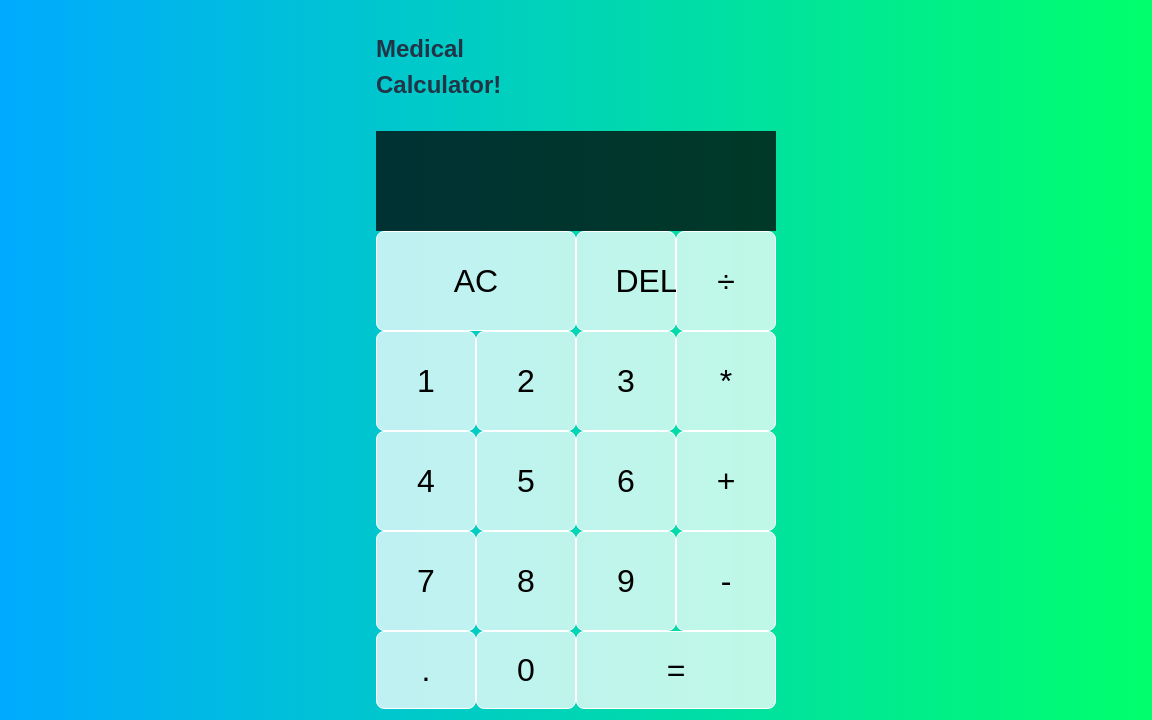
Calculator App › performs addition correctly
The width and height of the screenshot is (1152, 720).
Click the button "2" at (526, 381), box [476,331,576,431]
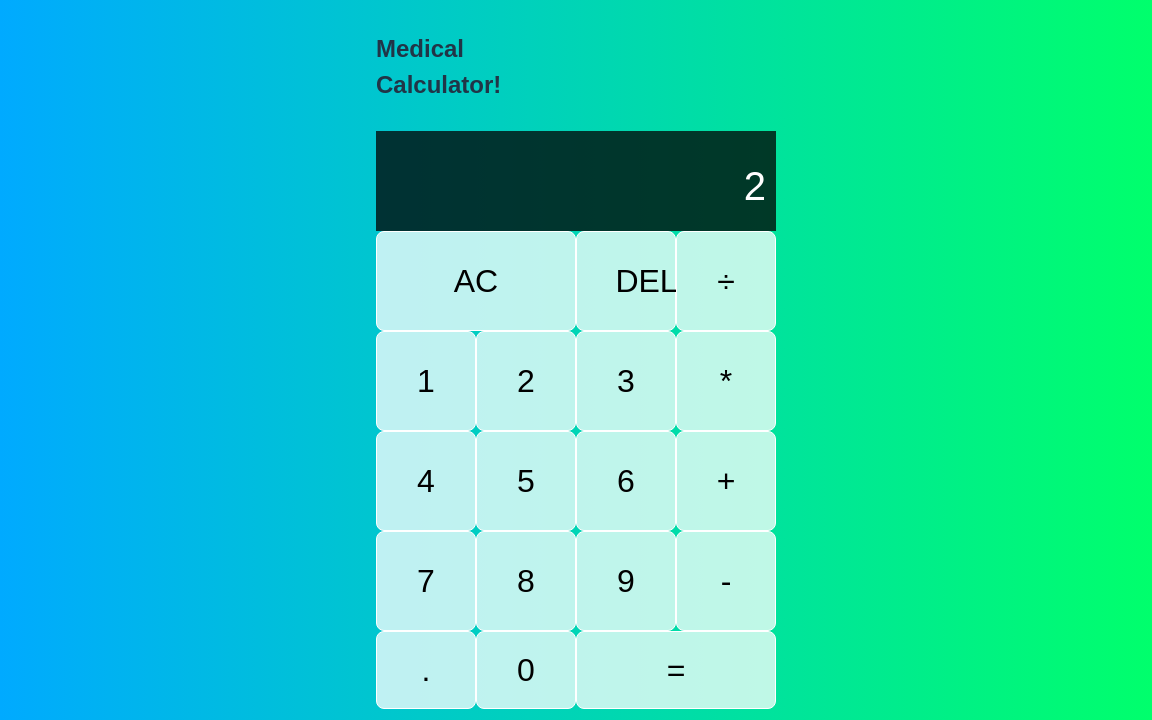
Click the button "+" at (726, 481), box [676,431,776,531]
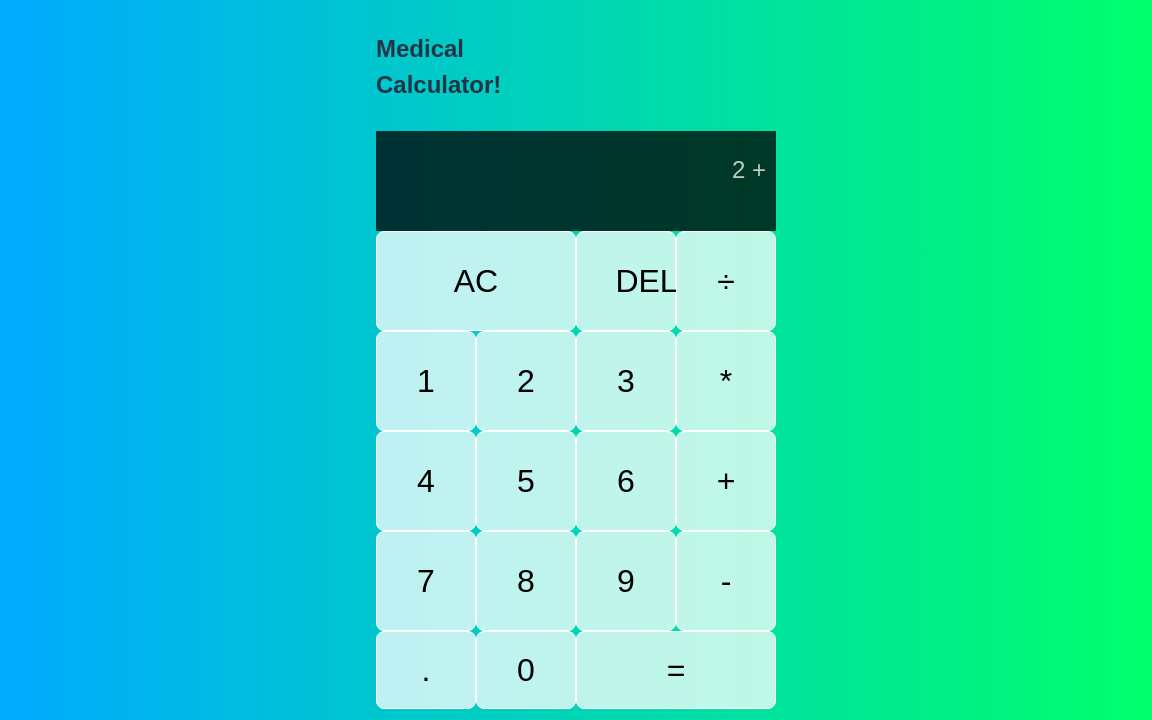
Click the button "3" at (626, 381), box [576,331,676,431]
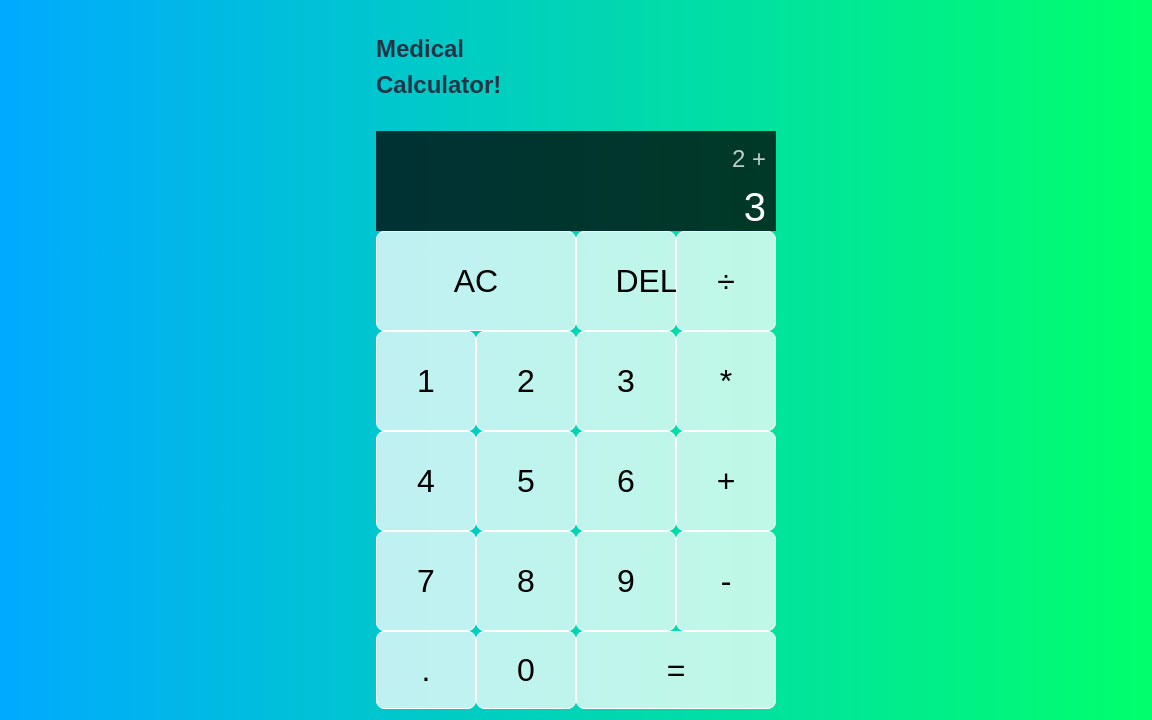
Click the button "=" at (676, 670), box [576,631,776,709]
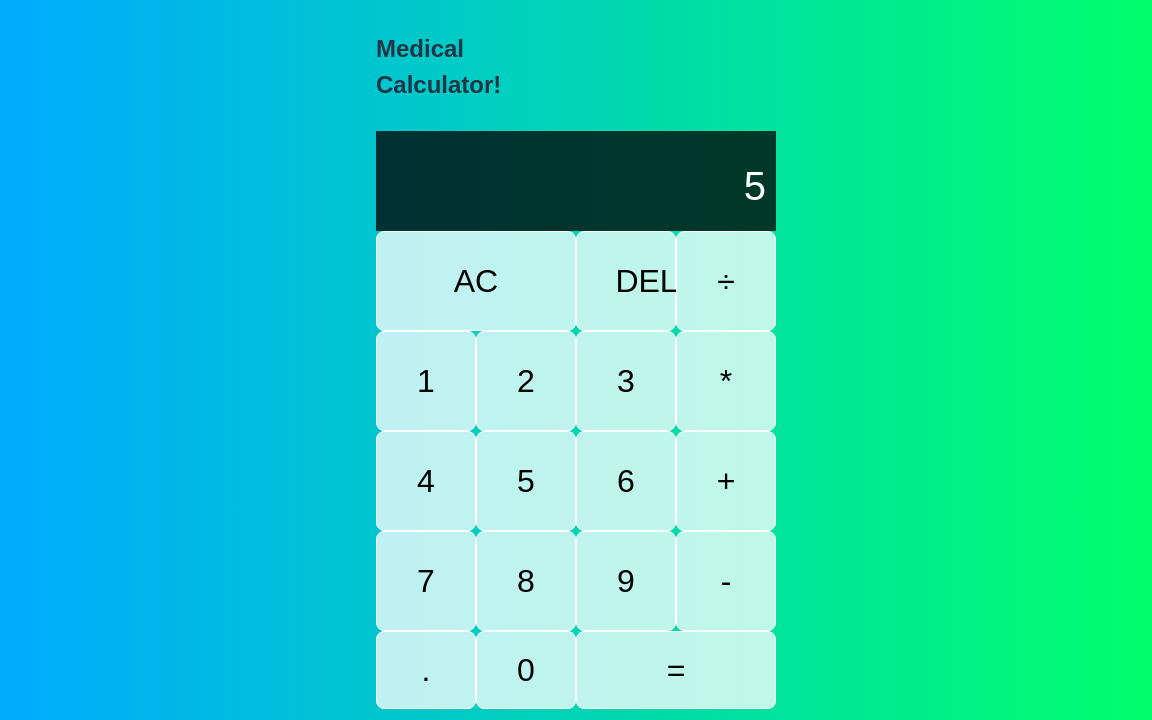
Now the text with test id "display" reads "5", box [744,164,766,208]
